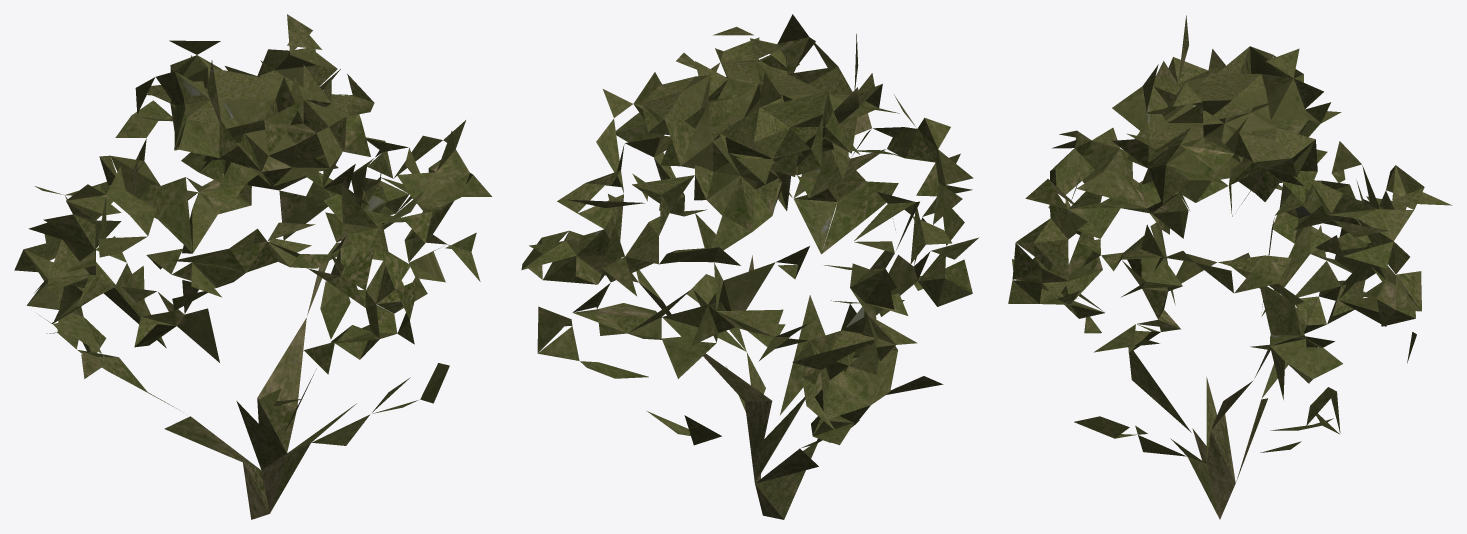
The model's file is arbusto_bayas.glb.
3 views of the same model, side by side, from view 1: azimuth 30°, elevation 25°; view 2: azimuth 150°, elevation 25°; view 3: azimuth 270°, elevation 25° (orthographic). The views are drawn at different scales.
Size of the model in its own units: 1.47 by 1.79 by 1.53.
Materials: 1 (1 with a texture image).
